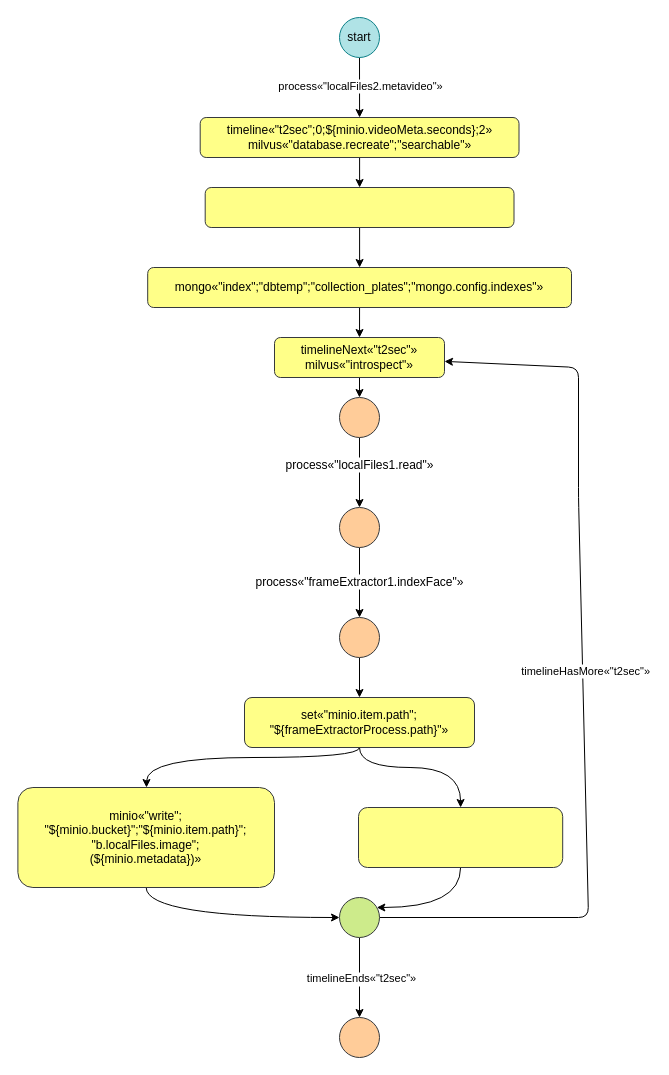
Some shapes in this 669 by 1075 pixel diagram are drawn without their labels. The shapes that lost their labels are listed below. From the top down, each one's centre as x and y in pixels, then its label:
pixel 359 207: milvus«"collection.create";"searchable";"milvus.faces"»
pixel 460 837: mongo«"write"; "dbtemp";"collection_plates"; "frameExtractorProcess.plates"»
pixel 359 1037: end
